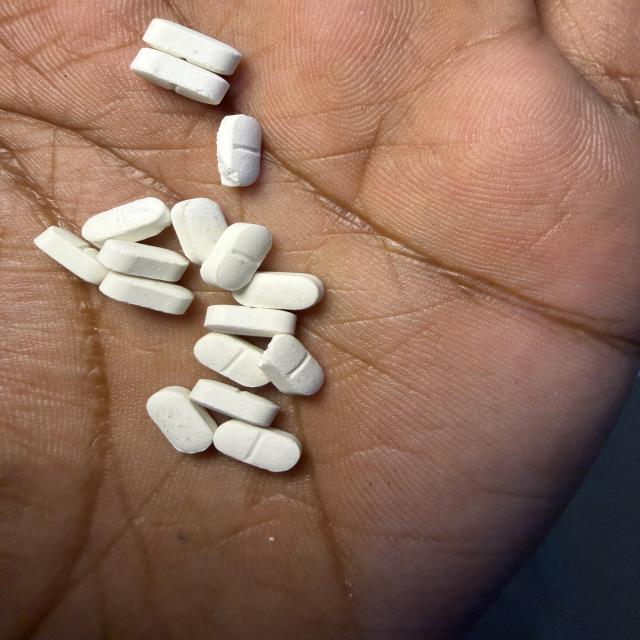pill: (143, 19, 241, 74), (131, 49, 229, 104), (201, 223, 272, 290), (147, 387, 216, 453), (214, 420, 301, 471), (82, 198, 171, 247), (34, 227, 108, 284), (190, 379, 278, 426), (194, 333, 269, 387), (100, 272, 194, 314), (259, 335, 323, 395), (171, 198, 227, 264), (98, 240, 188, 281), (233, 272, 324, 310), (217, 115, 261, 186), (205, 305, 296, 337)
